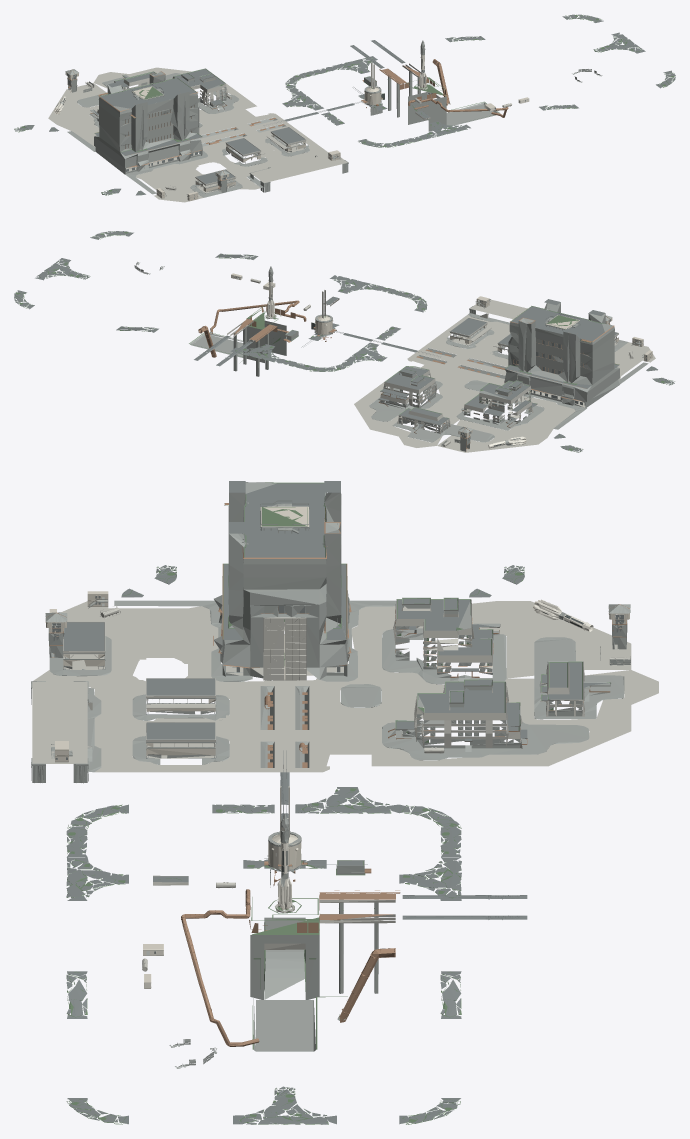
File: launch_site_1-map.glb
3 views of the same model, one above another, from view 1: azimuth 30°, elevation 25°; view 2: azimuth 150°, elevation 25°; view 3: azimuth 270°, elevation 25° (orthographic). The views are drawn at different scales.
Visible parts, largest first — view 1: range_bridge_a_LOD0, range_bridge_d_LOD0, rocket_boosters_stage_a_LOD0; view 2: range_bridge_a_LOD0, range_bridge_d_LOD0, rocket_boosters_stage_a_LOD0; view 3: range_bridge_a_LOD0, range_bridge_d_LOD0, rocket_boosters_stage_a_LOD0.
Boxes of the visible parts, x1=… form: range_bridge_a_LOD0: x1=14, y1=15, x2=675, y2=202; range_bridge_d_LOD0: x1=14, y1=14, x2=675, y2=199; rocket_boosters_stage_a_LOD0: x1=54, y1=42, x2=529, y2=201; range_bridge_a_LOD0: x1=14, y1=231, x2=674, y2=452; range_bridge_d_LOD0: x1=14, y1=231, x2=674, y2=452; rocket_boosters_stage_a_LOD0: x1=231, y1=269, x2=652, y2=448; range_bridge_a_LOD0: x1=31, y1=482, x2=658, y2=1124; range_bridge_d_LOD0: x1=52, y1=481, x2=623, y2=1124; rocket_boosters_stage_a_LOD0: x1=46, y1=506, x2=629, y2=988.
Size of the model in its own units: 561 by 101 by 272.
